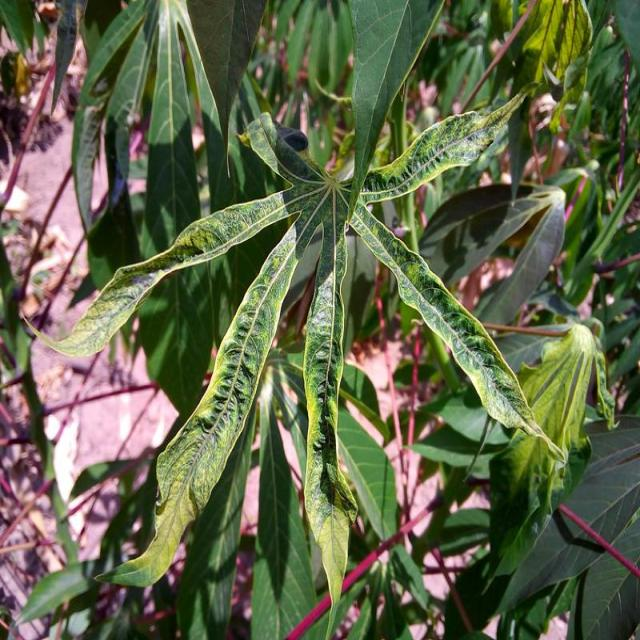cassava leaf: (26, 1, 576, 625), (92, 217, 300, 588), (347, 194, 566, 466)
